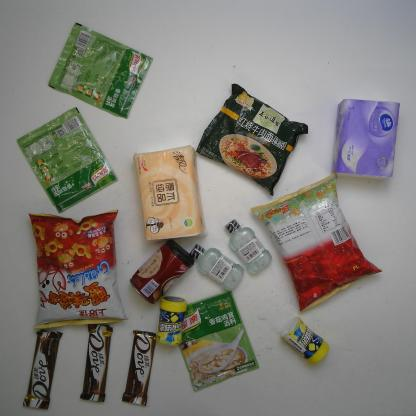Canned Food: (127, 236, 197, 306)
Chocolate: (21, 327, 64, 411), (78, 320, 116, 404), (120, 328, 159, 408)
Gum: (277, 314, 333, 367), (152, 294, 189, 348)
Instant Noodles: (194, 81, 310, 197)
Personal Hygiene: (222, 216, 275, 277), (185, 242, 246, 294)
Puffed Food: (246, 168, 385, 314), (24, 207, 131, 332)
Seasoner: (14, 104, 121, 216), (45, 20, 156, 122), (176, 287, 262, 393)
Tissue: (129, 144, 210, 246), (327, 93, 405, 185)
